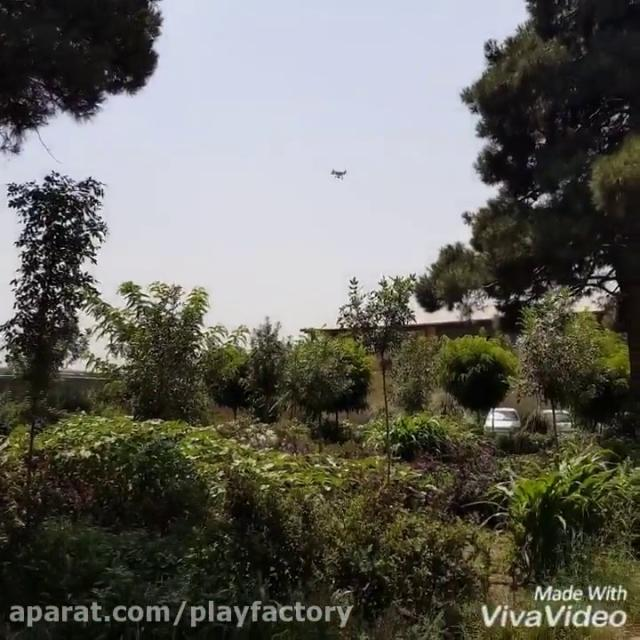drone: (326, 162, 352, 182)
